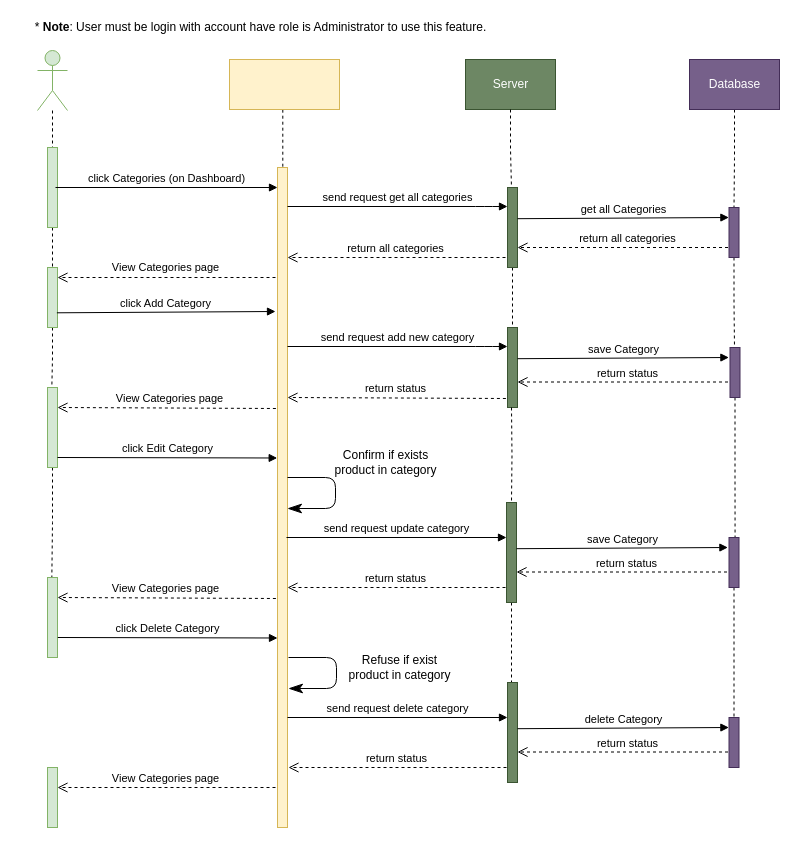
Image size: 797x845. Some labels were removed from this diagram. Here are the shapes that lost their labels. From the top down, the centre of each, then its label:
At (52,80): "Administrator".
At (284,84): "Interface - UI".
